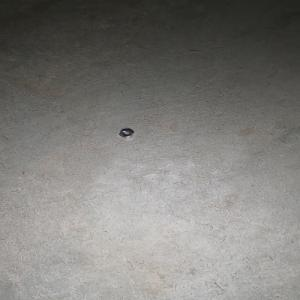Nut: (118, 129, 134, 138)
